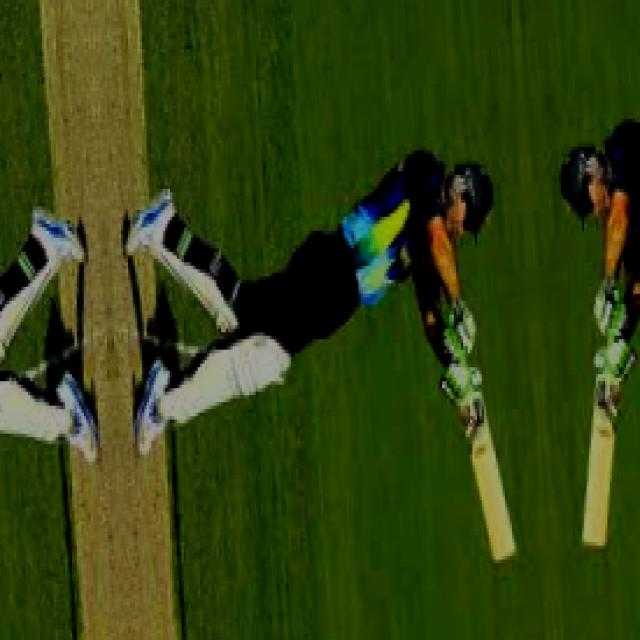toe: (490, 545, 519, 565)
